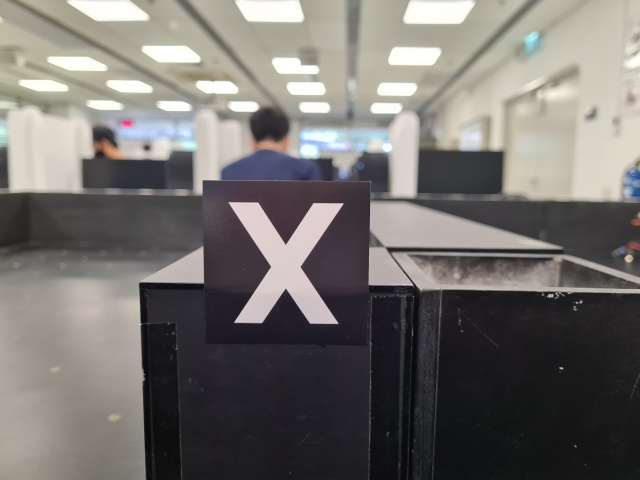alphabet_x: (201, 180, 373, 346)
